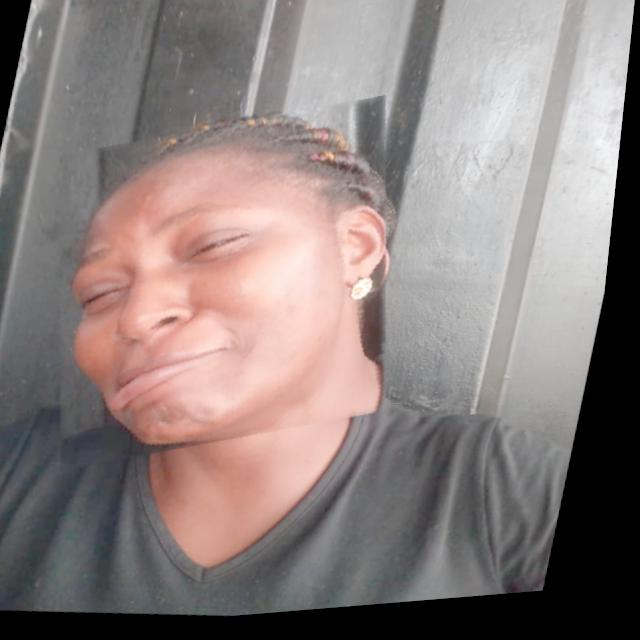sad: (20, 81, 440, 492)
